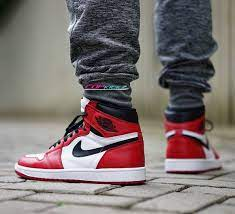Jordan 1: (13, 94, 148, 185), (162, 103, 225, 174)
